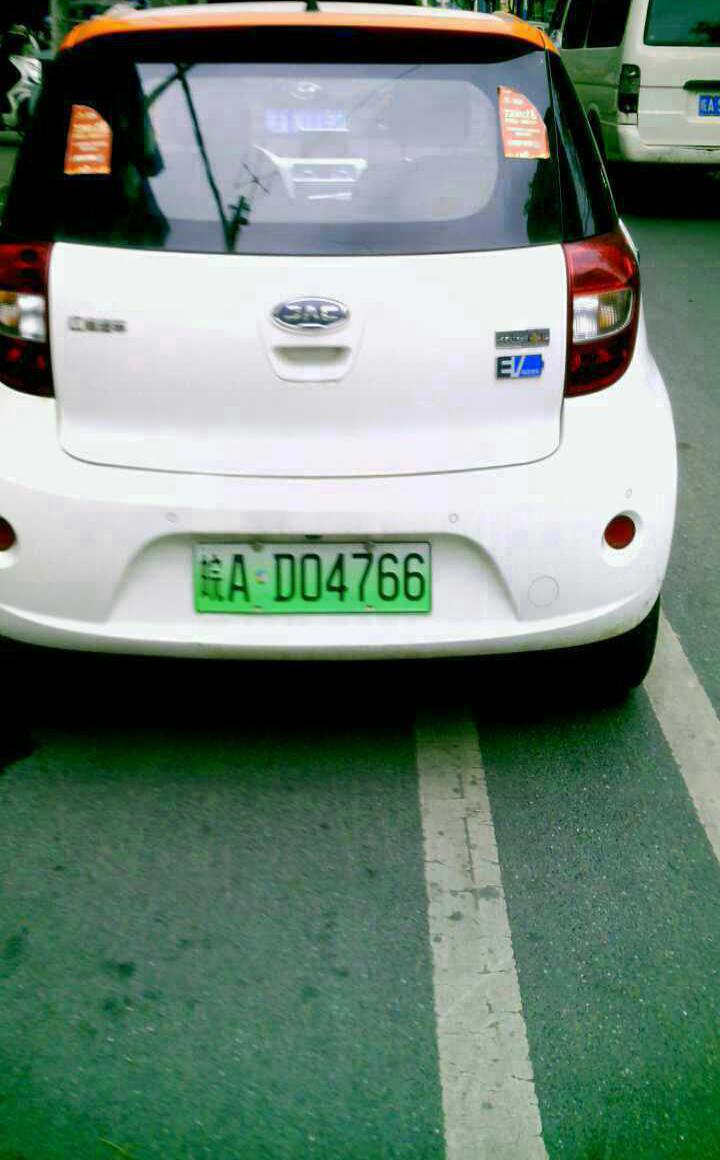car: (184, 537, 438, 615)
